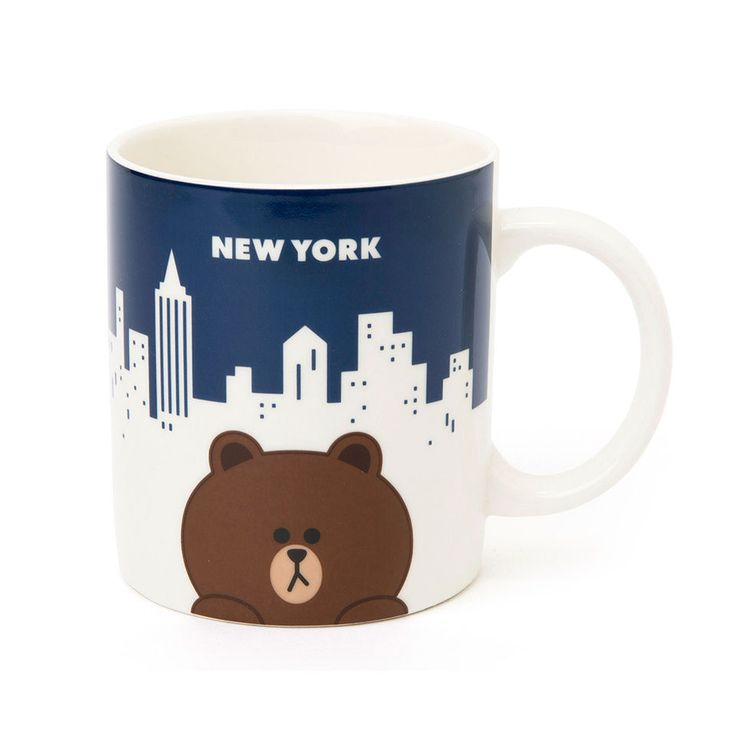line_brown: (167, 415, 423, 633)
